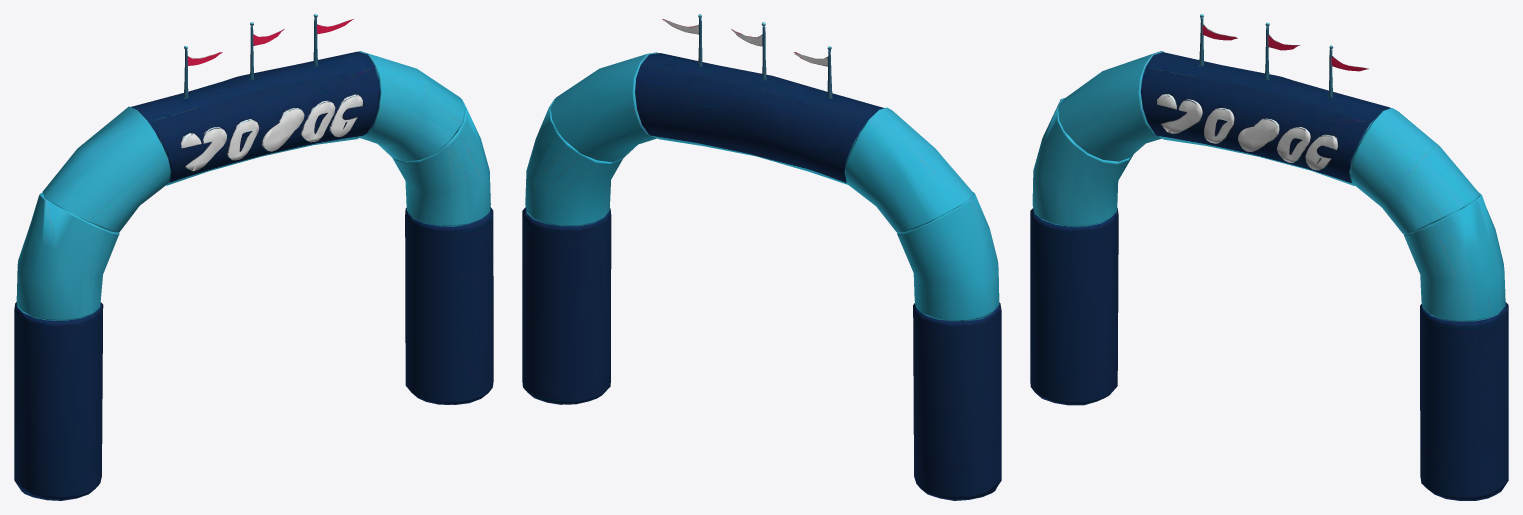
File: start_arch.glb
The picture shows the model from 3 angles, left to right: view 1: azimuth 30°, elevation 25°; view 2: azimuth 150°, elevation 25°; view 3: azimuth 330°, elevation 25°; orthographic projection.
Bounding box in the file's own units: 1 × 0.8572 × 0.1665.
1 material, 1 textured.
